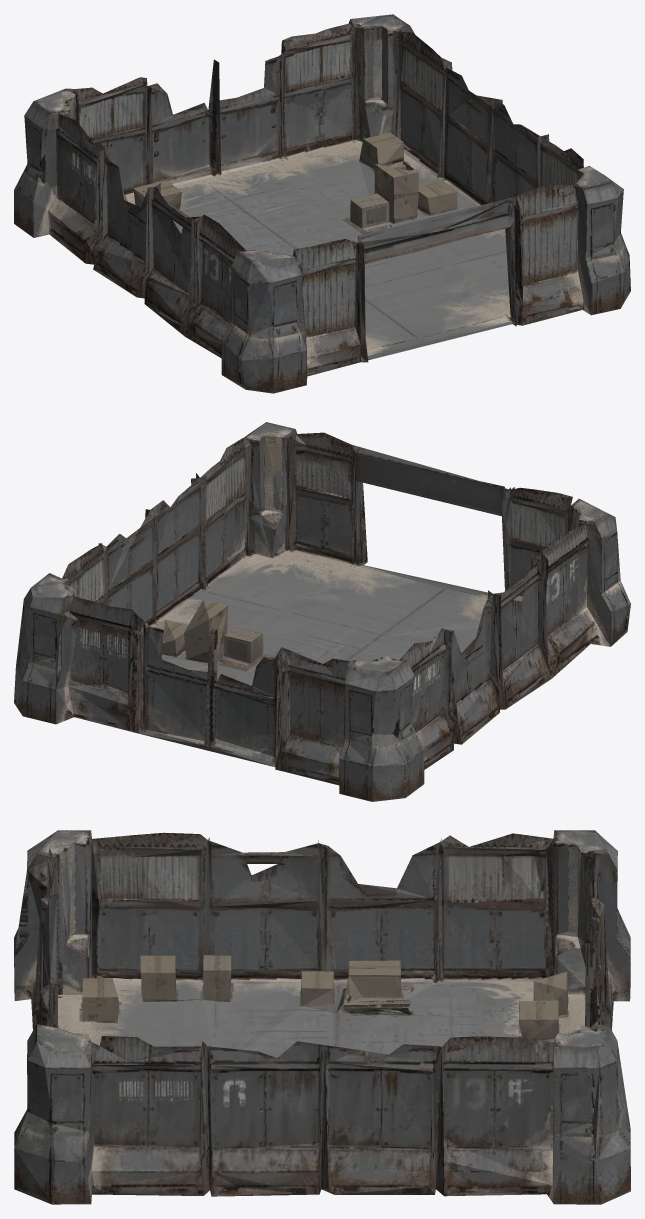
File: struct.depot.glb
3 renders of one model, top to bottom at view 1: azimuth 30°, elevation 25°; view 2: azimuth 150°, elevation 25°; view 3: azimuth 270°, elevation 25°, orthographic. The views are drawn at different scales.
Parts seen in each view (by area): view 1: body; view 2: body; view 3: body.
Boxes of the visible parts, <box> form: body: <box>14,14,630,393</box>; body: <box>14,422,630,801</box>; body: <box>14,830,630,1204</box>.
Size of the model in its own units: 1.9 by 0.5957 by 2.1.
1 material, 1 textured.
